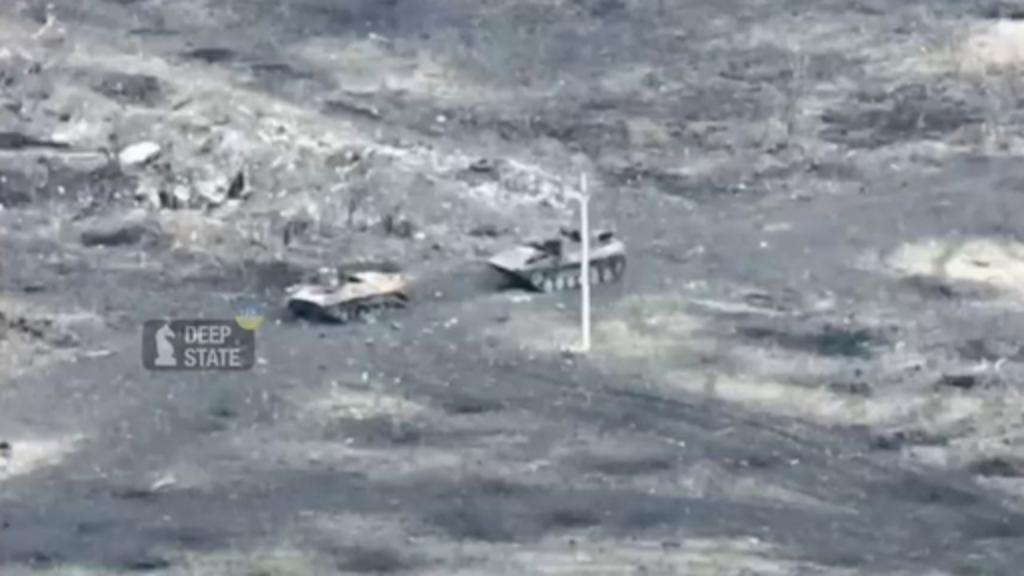APC-IFV: (486, 224, 630, 298), (282, 252, 402, 326)
